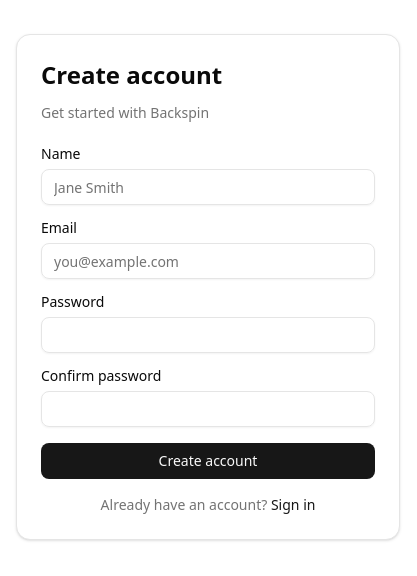
Test case: SignUp › shows the API error message when sign-up fails
Step 1. Type "Alice Smith" into the field labelled "Name" → (208, 187), box [41,169,375,205]
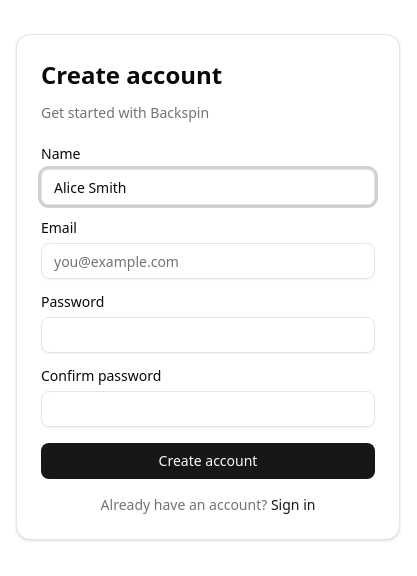
Step 2. Type "alice@example.com" into the field labelled "Email" → (208, 261), box [41,243,375,279]
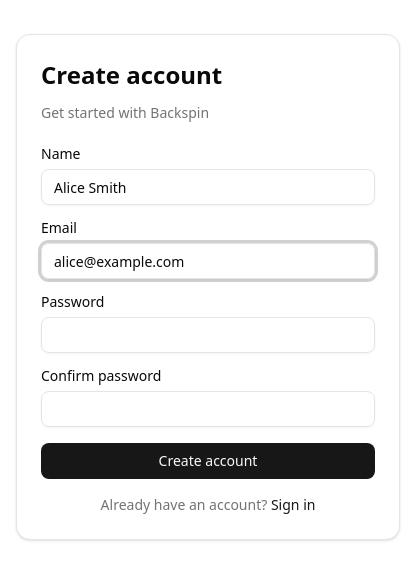
Step 3. Type "password1" into the password field labelled "Password" → (208, 335), box [41,317,375,353]
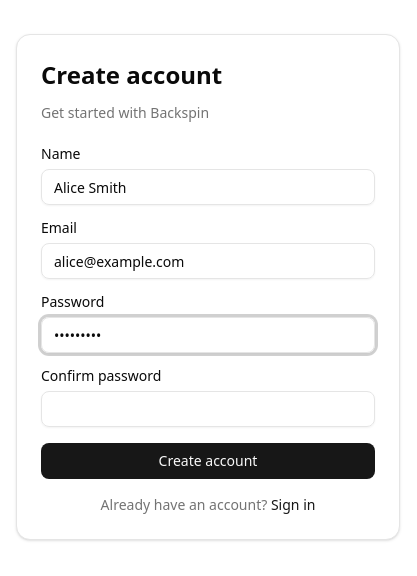
Step 4. Type "password1" into the password field labelled "Confirm password" → (208, 409), box [41,391,375,427]
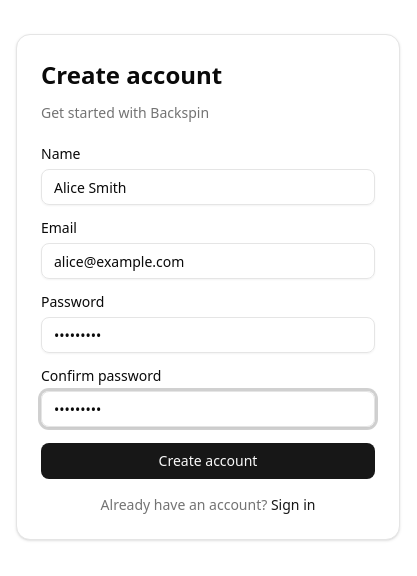
Step 5. Click the button "Create account" → (208, 461), box [41,443,375,479]
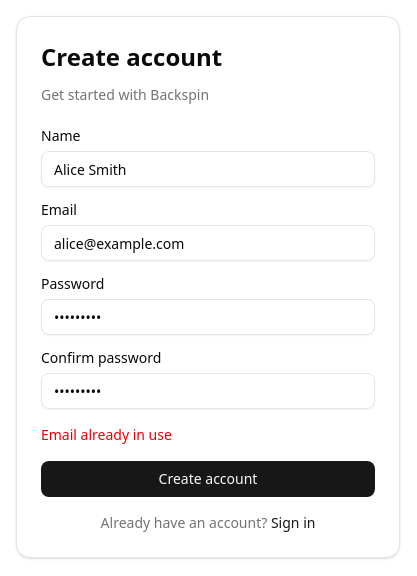
Expected: the text "Email already in use" is shown, [41,425,172,444]
